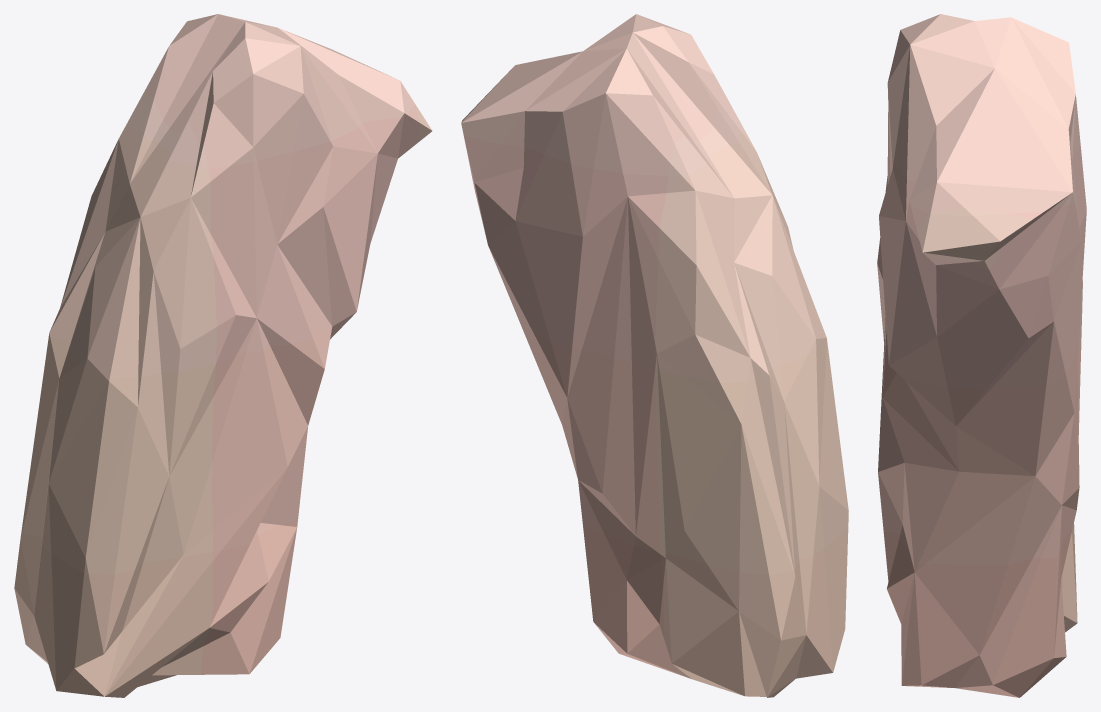
The model's file is DC_PortalRock2.fbx.
3 views of the same model, side by side, from view 1: azimuth 30°, elevation 25°; view 2: azimuth 150°, elevation 25°; view 3: azimuth 270°, elevation 25° (orthographic). The views are drawn at different scales.
Visible parts, largest first — view 1: PortalRock2; view 2: PortalRock2; view 3: PortalRock2.
Boxes of the visible parts, x1=… form: PortalRock2: x1=14, y1=14, x2=432, y2=697; PortalRock2: x1=461, y1=14, x2=848, y2=697; PortalRock2: x1=877, y1=14, x2=1086, y2=697.
Size of the model in its own units: 1.21 by 2.01 by 0.5553.
Materials: 1 (1 with a texture image).
